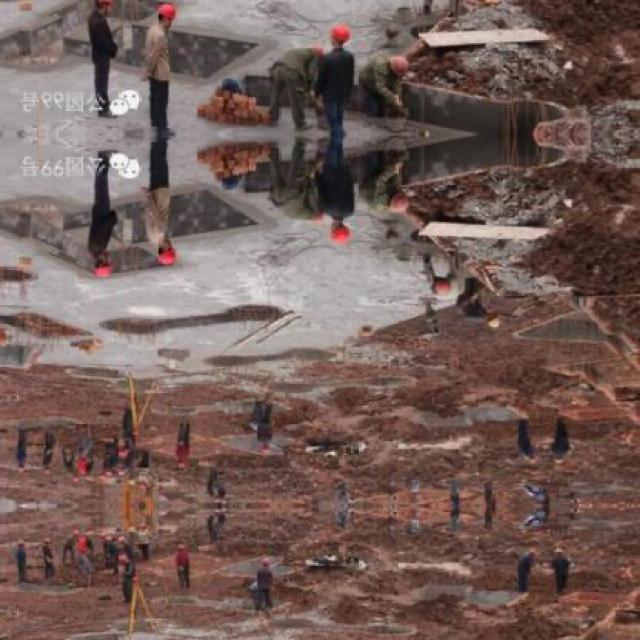con casco: (354, 165, 414, 233), (456, 278, 514, 335), (66, 236, 136, 283), (320, 185, 362, 258), (405, 261, 480, 300), (143, 219, 176, 279), (244, 433, 282, 464)
